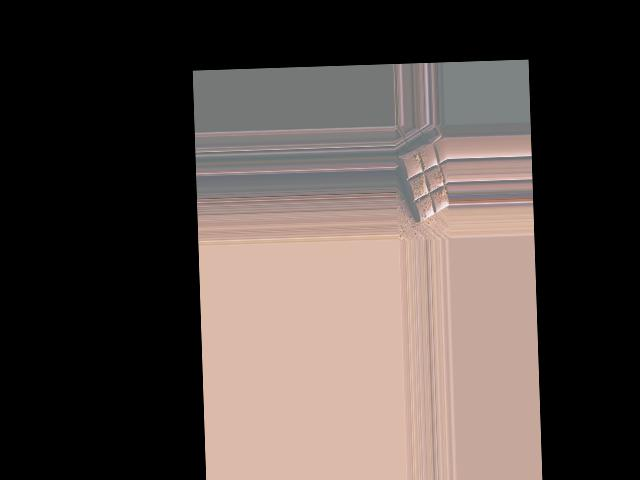chocolate: (399, 137, 448, 226)
